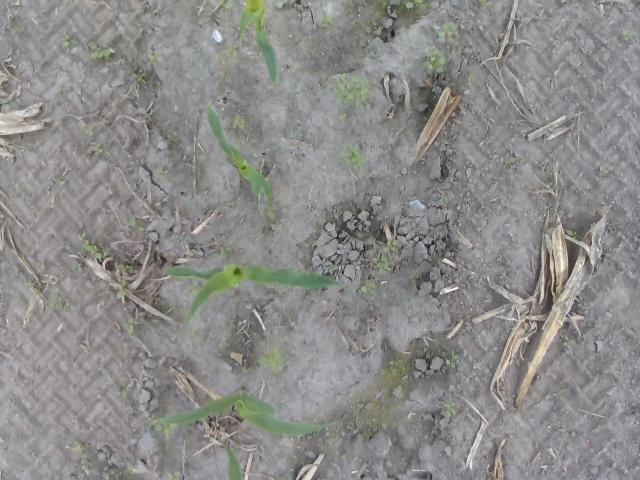Maize: (154, 261, 366, 329), (154, 385, 343, 442), (205, 105, 274, 207), (236, 3, 278, 86), (222, 446, 250, 480)
Weeds: (336, 76, 370, 107), (374, 240, 402, 276), (256, 344, 284, 372), (115, 264, 135, 300), (218, 47, 240, 78), (78, 235, 100, 261), (88, 42, 115, 61), (424, 52, 446, 74), (343, 145, 365, 167), (6, 14, 26, 36), (438, 22, 460, 42), (156, 417, 178, 437), (446, 348, 460, 368), (406, 0, 425, 12), (51, 295, 66, 310), (562, 335, 575, 351), (132, 69, 146, 83), (319, 12, 332, 27), (125, 318, 139, 331), (364, 279, 376, 294), (444, 402, 456, 417), (233, 115, 245, 130), (508, 156, 524, 166), (156, 166, 168, 179), (60, 35, 74, 46), (131, 220, 147, 229), (167, 469, 180, 480), (122, 384, 132, 398), (601, 164, 615, 174), (622, 29, 636, 39), (74, 442, 84, 454), (104, 466, 112, 480), (38, 260, 46, 273), (73, 263, 84, 272), (411, 272, 420, 283), (148, 55, 162, 62), (441, 196, 450, 206), (92, 144, 100, 154), (125, 464, 134, 472)
